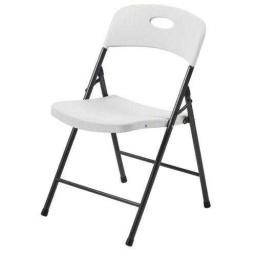Chair: (47, 7, 214, 247)
